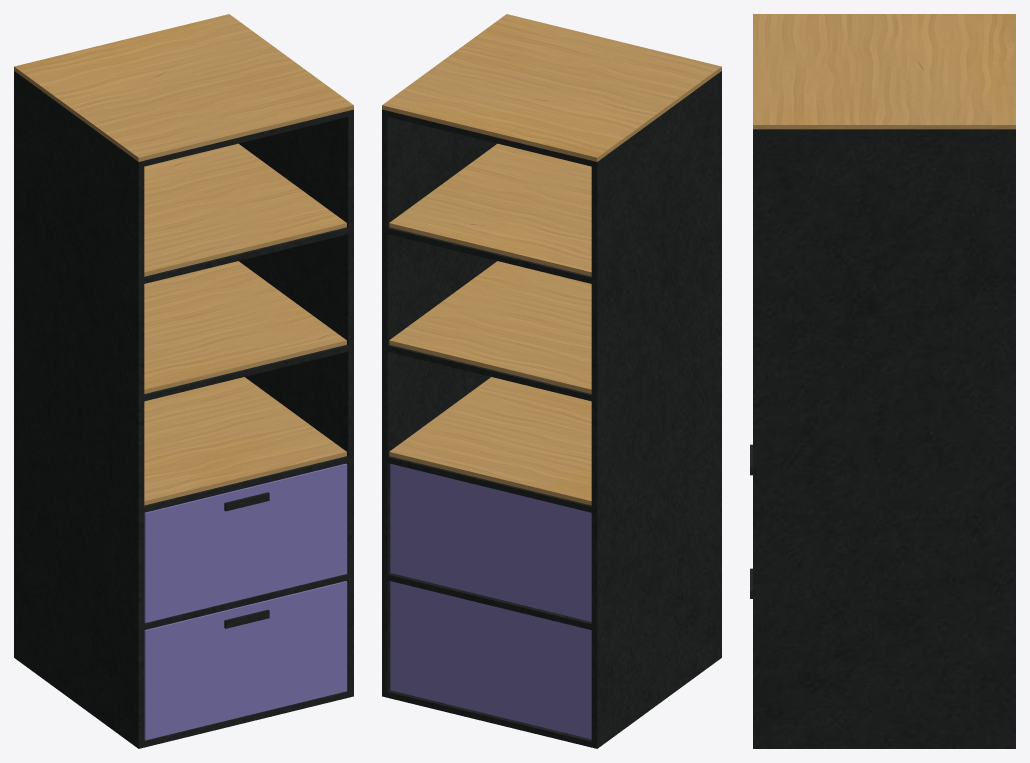
File: cabinet_2_3.glb
3 views of the same model, side by side, from view 1: azimuth 30°, elevation 25°; view 2: azimuth 150°, elevation 25°; view 3: azimuth 270°, elevation 25° (orthographic). The views are drawn at different scales.
Parts seen in each view (by area): view 1: cabinet_2_3; view 2: cabinet_2_3; view 3: cabinet_2_3.
Part boxes in pixels (x1=…): cabinet_2_3: x1=14, y1=14, x2=353, y2=748; cabinet_2_3: x1=382, y1=14, x2=721, y2=748; cabinet_2_3: x1=750, y1=14, x2=1015, y2=748.
Size of what is drawn, in the model's own units: 1 by 2.63 by 1.01.
Materials: 3 (3 with a texture image).
